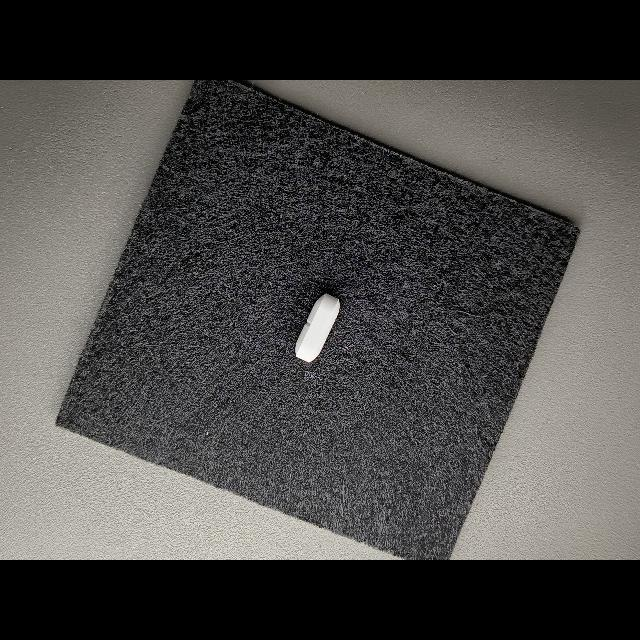Intact Pill: (295, 293, 340, 363)
